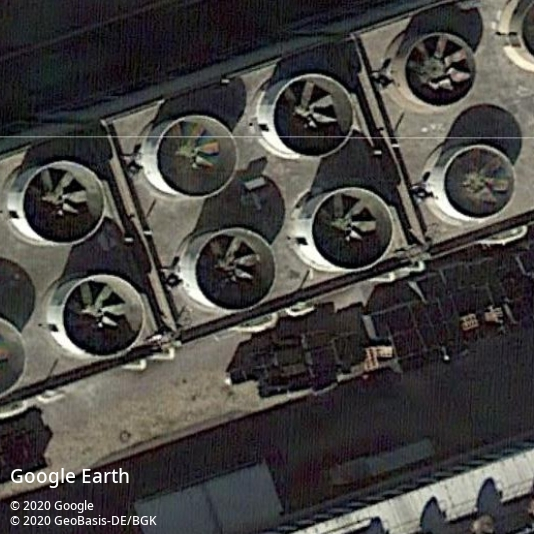Vent: (60, 273, 145, 360), (310, 187, 395, 273), (21, 160, 106, 245), (193, 227, 277, 313), (154, 115, 239, 199), (271, 74, 355, 158), (403, 32, 478, 109), (442, 145, 517, 220)
